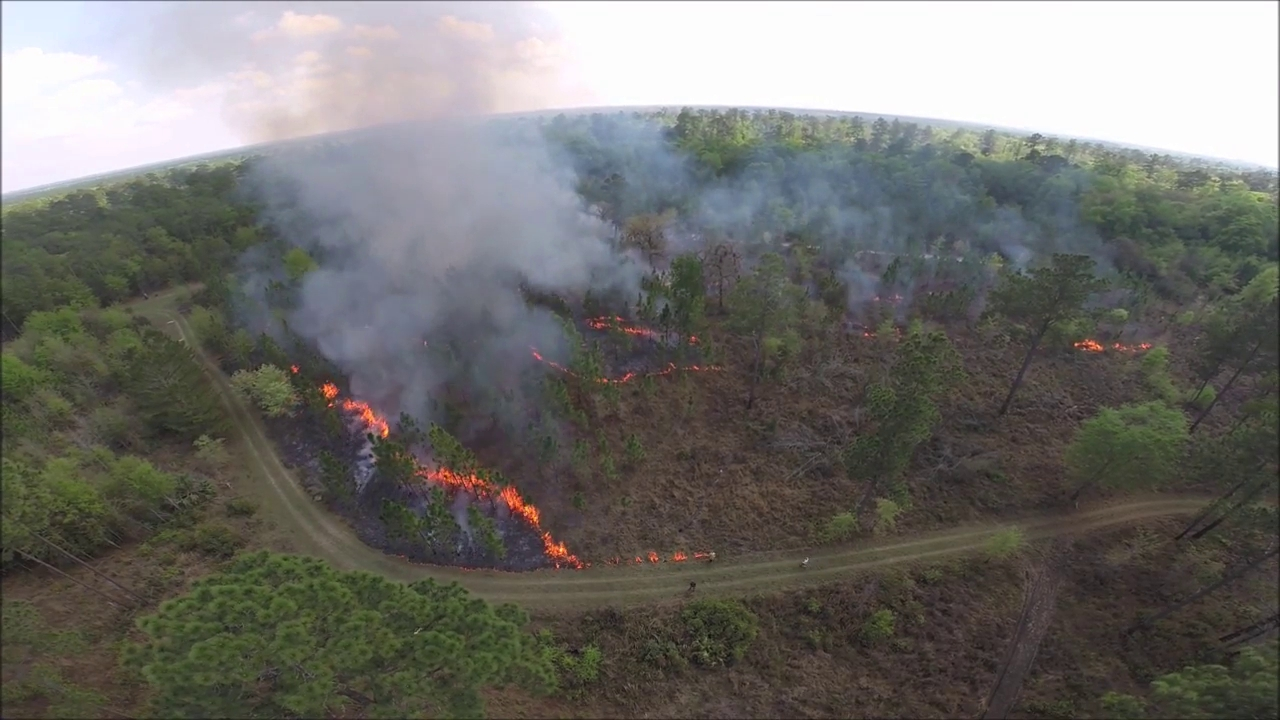forest_fire: (418, 468, 589, 569), (320, 382, 389, 438), (594, 363, 721, 384), (587, 316, 658, 338), (604, 551, 713, 565), (531, 348, 575, 376), (1072, 339, 1152, 352)
